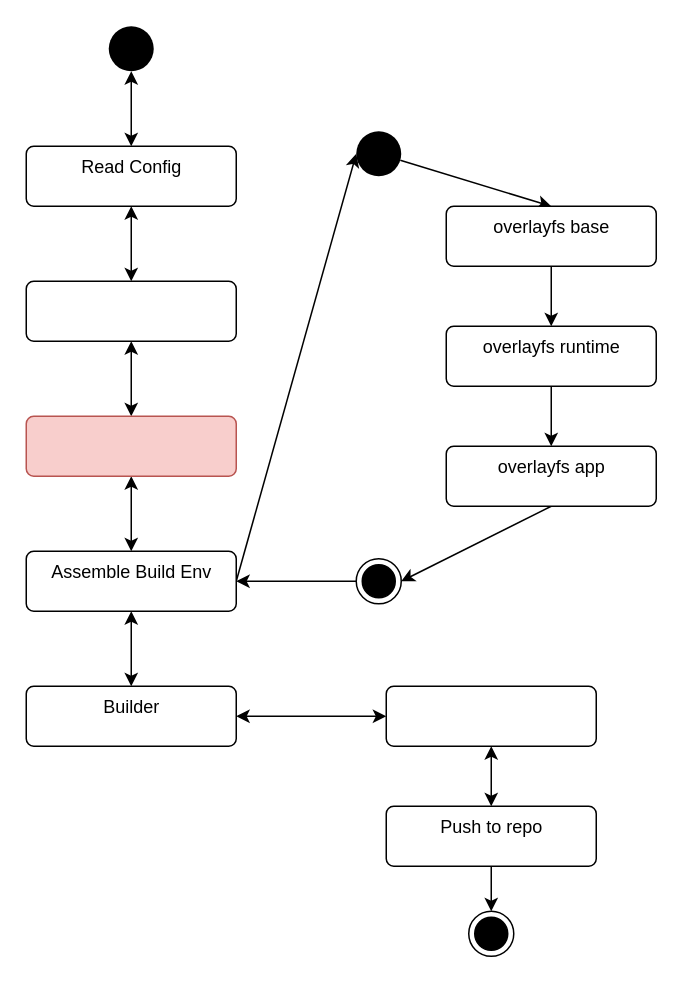
Image size: 683x983. Some labels were removed from this diagram. The centre of each missing label's shape, as x and y in pixels:
Push to cache: the point at 490,715
Sync Depends: the point at 130,310
Sync Source: the point at 130,445
